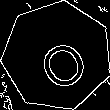O_NW: (25, 23, 88, 89)
